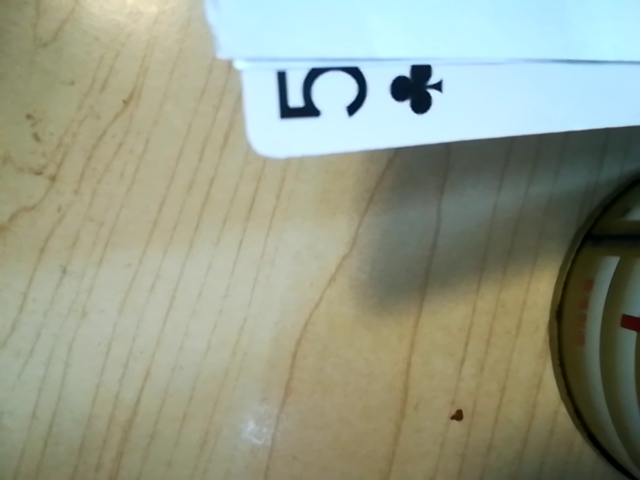mh 5: (255, 51, 454, 145)
